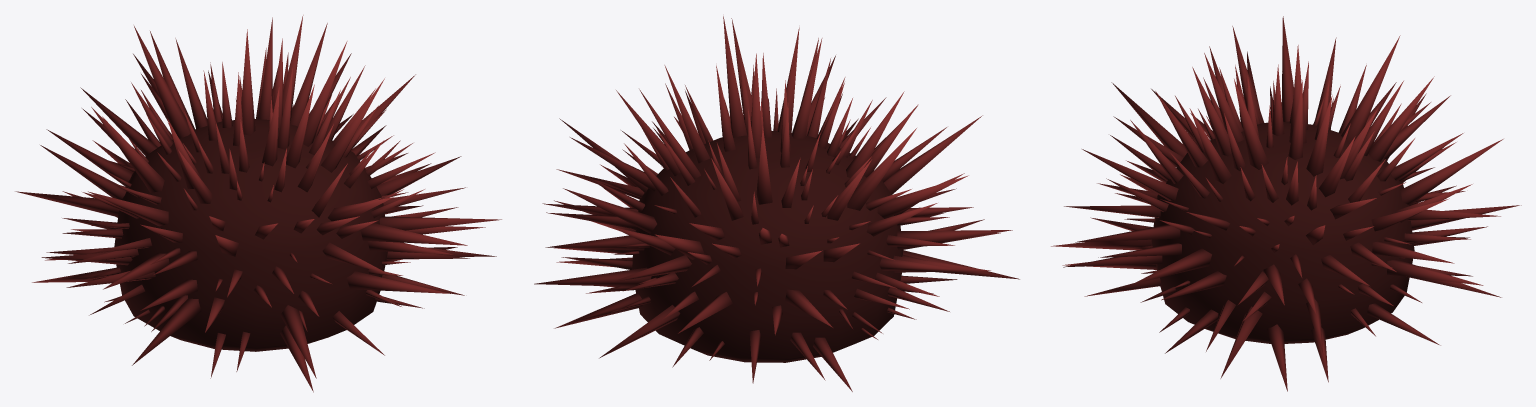
Rendered from underwater-sea-invertebrates-sea-urchin_v3.fbx.
3 renders of one model, left to right at view 1: azimuth 30°, elevation 25°; view 2: azimuth 150°, elevation 25°; view 3: azimuth 270°, elevation 25°, orthographic. The views are drawn at different scales.
Visible parts, largest first — view 1: Sea Urchin_v3; view 2: Sea Urchin_v3; view 3: Sea Urchin_v3.
Boxes of the visible parts, left/top/right/bottom form: Sea Urchin_v3: left=15, top=15, right=501, bottom=392; Sea Urchin_v3: left=534, top=16, right=1019, bottom=391; Sea Urchin_v3: left=1051, top=16, right=1521, bottom=391.
Bounding box in the file's own units: 0.0981 × 0.061 × 0.1.
